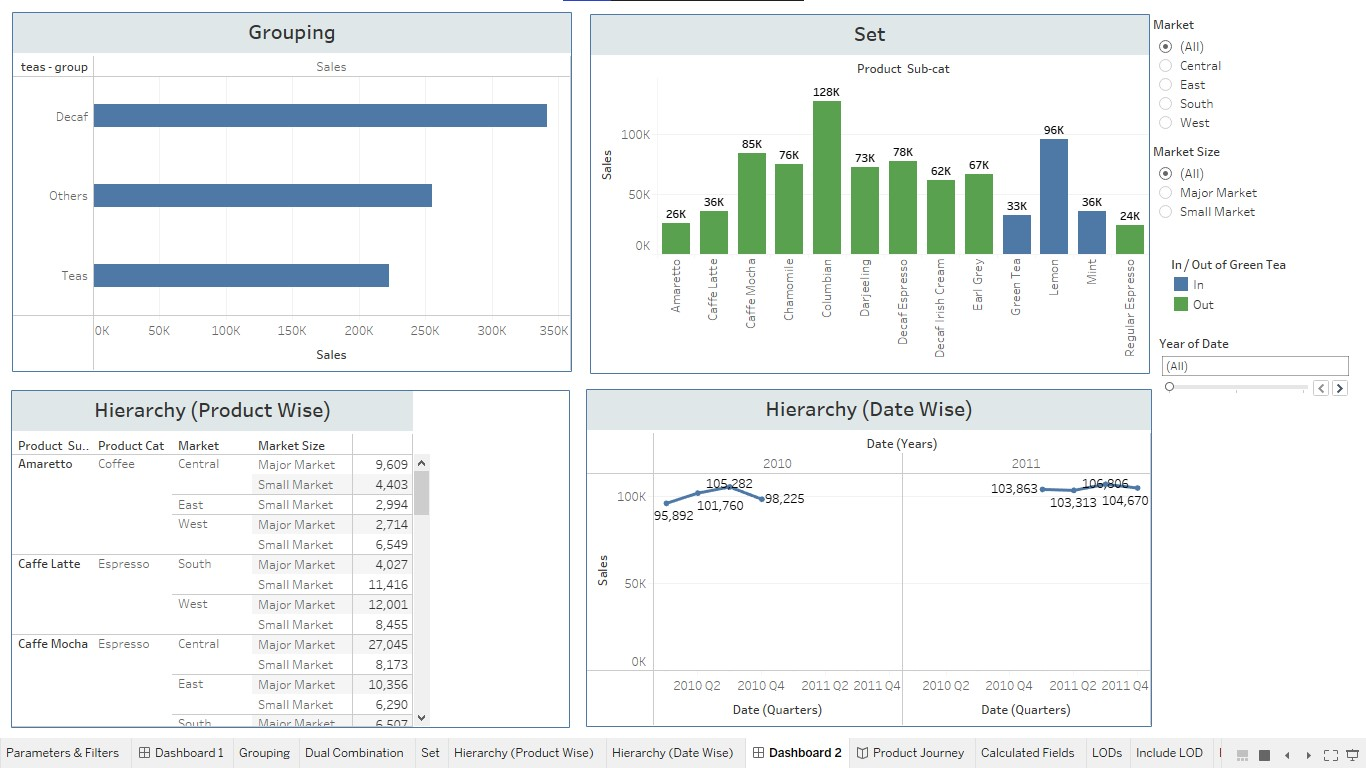

This screenshot's page, from the dashboard's own definition file:
{"tool":"tableau","page":{"name":"Dashboard 2","canvas":[1000,1000],"units":"permille","ordinal":1},"visuals":[{"type":"worksheet","title":"Grouping","mark":"Automatic","cols":["Sales"],"box":[9.1,16.9,410.1,488.2]},{"type":"filter","title":"Grouping","param":"[federated.1ynzr0303prjf313yni6b1wskvge].[none:Market:nk]","box":[841.1,16.9,146.1,182.4]},{"type":"worksheet","title":"Set","mark":"Automatic","rows":["Sales"],"cols":["Product"],"box":[432,18.6,410.1,488.2]},{"type":"filter","title":"Grouping","param":"[federated.1ynzr0303prjf313yni6b1wskvge].[none:Market Size:nk]","box":[841.1,199.3,146.1,150.3]},{"type":"legend","title":"Set","param":"[federated.1ynzr0303prjf313yni6b1wskvge].[io:Product Set:nk]","box":[857.5,346.3,127.9,98]},{"type":"filter","title":"Set","param":"[federated.1ynzr0303prjf313yni6b1wskvge].[yr:Date:ok]","box":[848.4,454.4,141.6,126.7]},{"type":"worksheet","title":"Hierarchy (Date Wise)","mark":"Automatic","rows":["Sales"],"cols":["Date (Years)","Date (Quarters)"],"box":[429.2,527,414.6,457.8]},{"type":"worksheet","title":"Hierarchy (Product Wise)","mark":"Automatic","rows":["Product","Product Type","Market","Market Size"],"box":[8.2,528.7,409.1,457.8]}]}

Visuals, with their boxes on the dashboard's canvas, which has no fixed pixel size, in thousandths of its width and height (x1, y1, x2, y2). These are canvas units, not pixel positions in the 1366x768 screenshot, which may show the page scaled, cropped or inside an application window:
"Grouping" worksheet: region(9, 17, 419, 505)
"Grouping" filter: region(841, 17, 987, 199)
"Set" worksheet: region(432, 19, 842, 507)
"Grouping" filter: region(841, 199, 987, 350)
"Set" legend: region(858, 346, 985, 444)
"Set" filter: region(848, 454, 990, 581)
"Hierarchy (Date Wise)" worksheet: region(429, 527, 844, 985)
"Hierarchy (Product Wise)" worksheet: region(8, 529, 417, 986)
